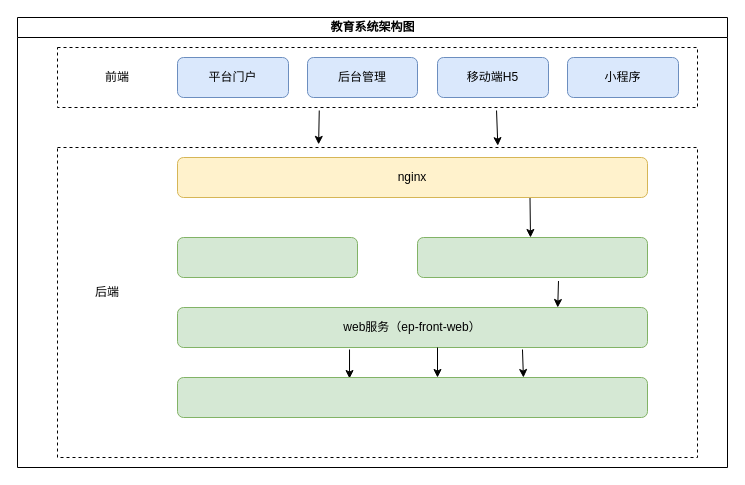
Some shapes in this 745 by 485 pixel diagram are drawn without their labels. Here are the shapes that lost their labels. From the top down, the centre of each, then its label:
At (x=267, y=257): "网关管理服务 （ep-gateway-admin）".
At (x=532, y=257): "网关服务 （ep-gateway）".
At (x=412, y=397): "业务服务（ep-busi-server）、系统服务（ep-sys-server）、api服务（ep-service-api）".
